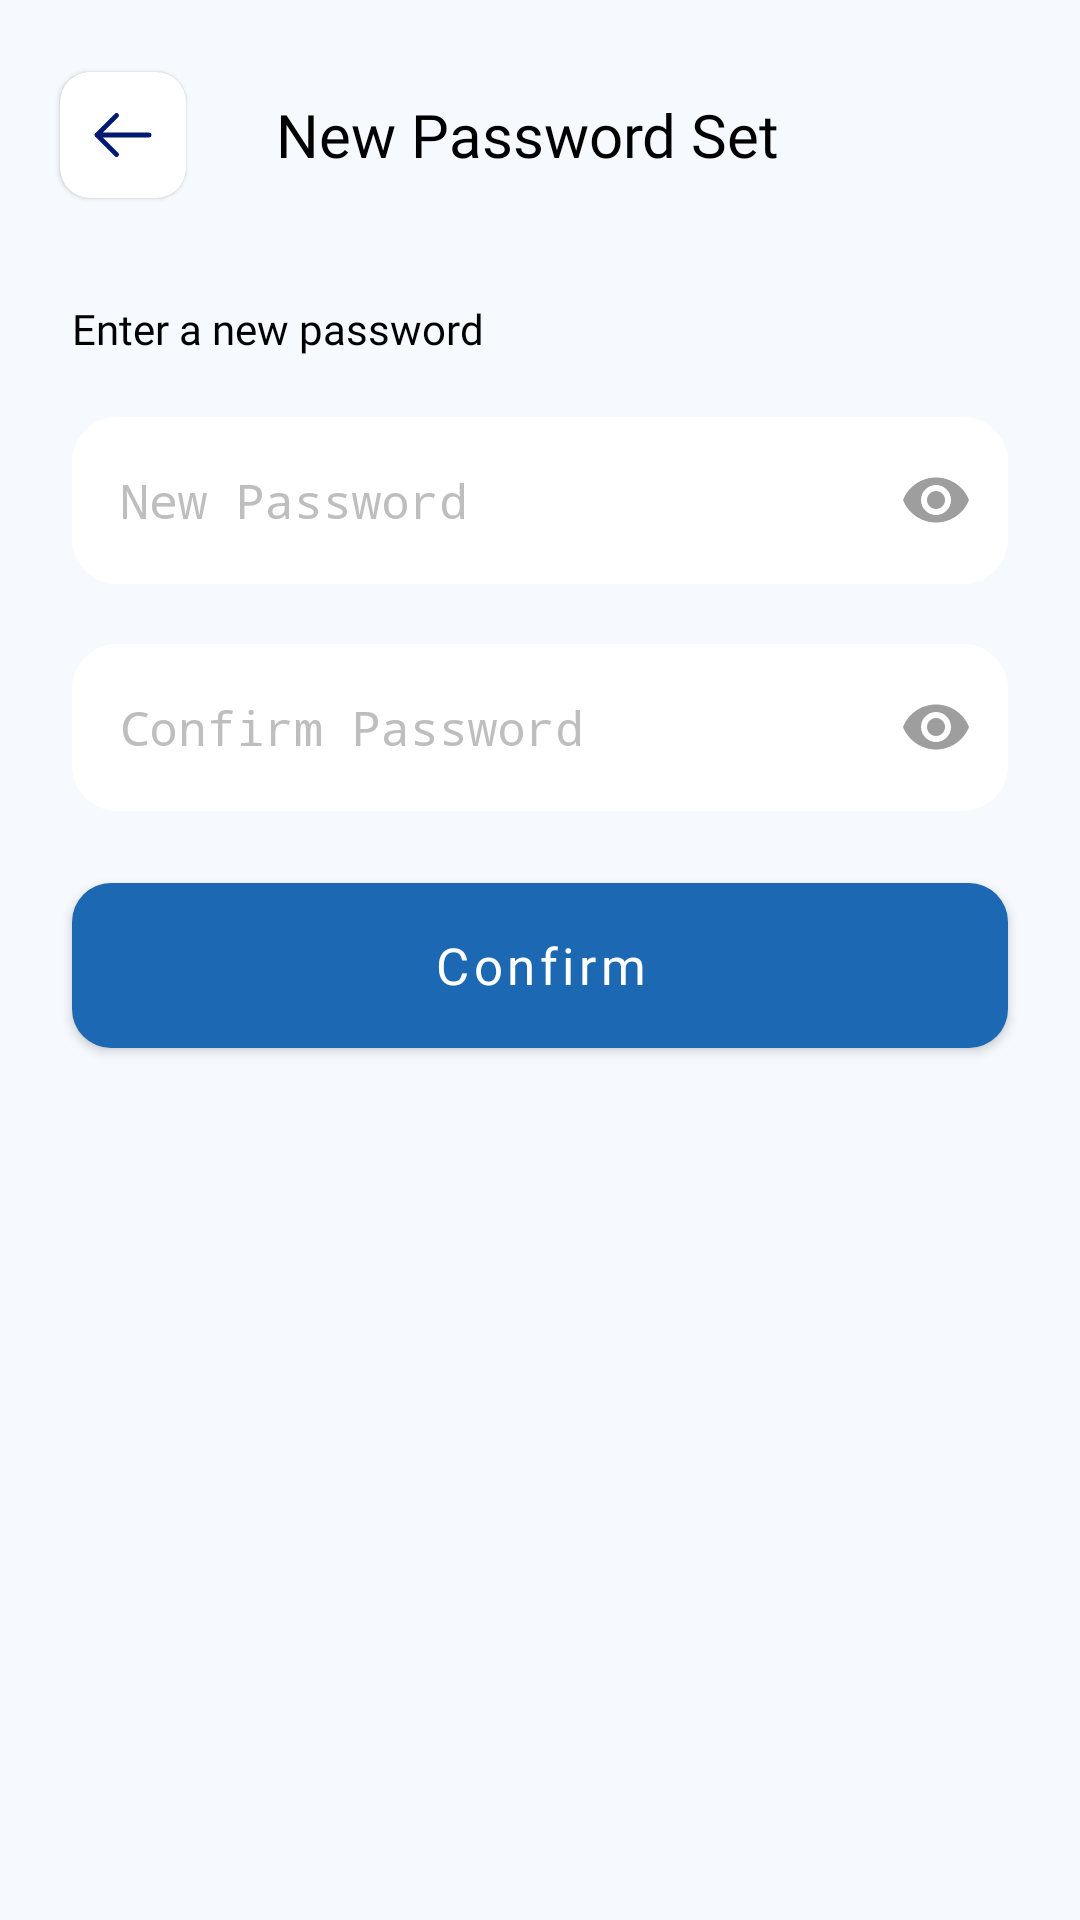

Icon click points for this 1080 x 1920 phone screenshot, format [x,y]:
arrow left: [123,135]
